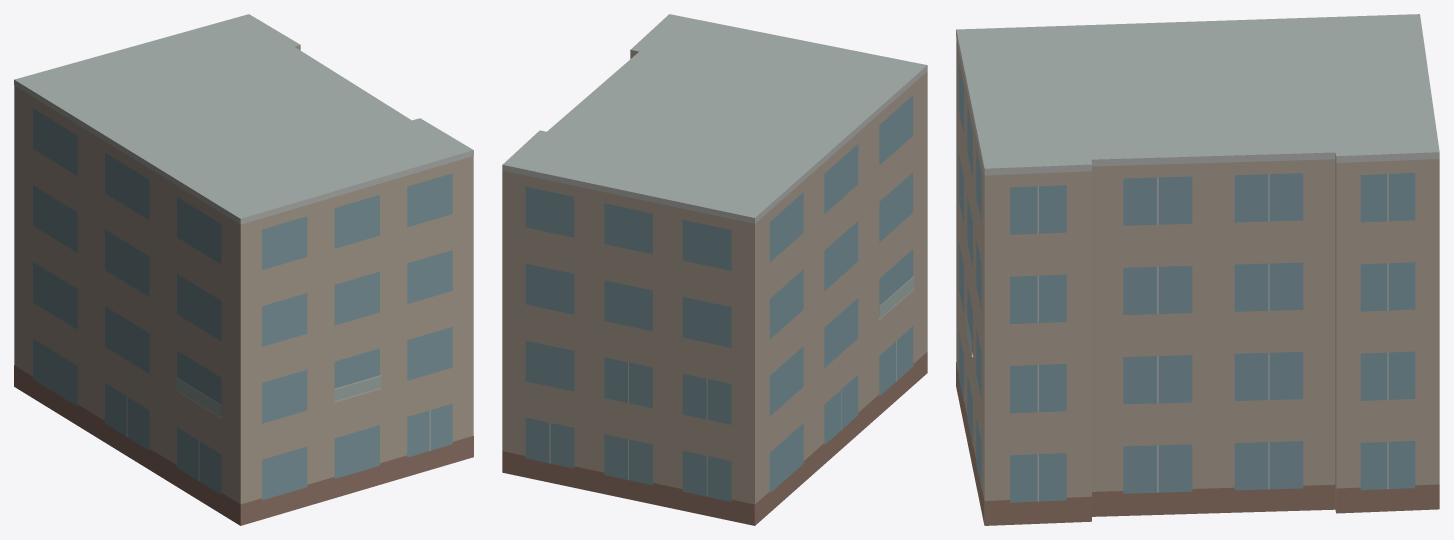
Rendered from survey-upis-32726702.glb.
The picture shows the model from 3 angles, left to right: view 1: azimuth 30°, elevation 25°; view 2: azimuth 150°, elevation 25°; view 3: azimuth 270°, elevation 25°; orthographic projection. The views are drawn at different scales.
Visible parts, largest first — view 1: survey-upis-32726702.tmp; view 2: survey-upis-32726702.tmp; view 3: survey-upis-32726702.tmp.
Boxes of the visible parts, x1,y1,x2,y2 form: survey-upis-32726702.tmp: [14, 14, 473, 525]; survey-upis-32726702.tmp: [502, 14, 927, 525]; survey-upis-32726702.tmp: [956, 14, 1439, 525].
Bounding box in the file's own units: 11.9 × 12.8 × 15.71.
